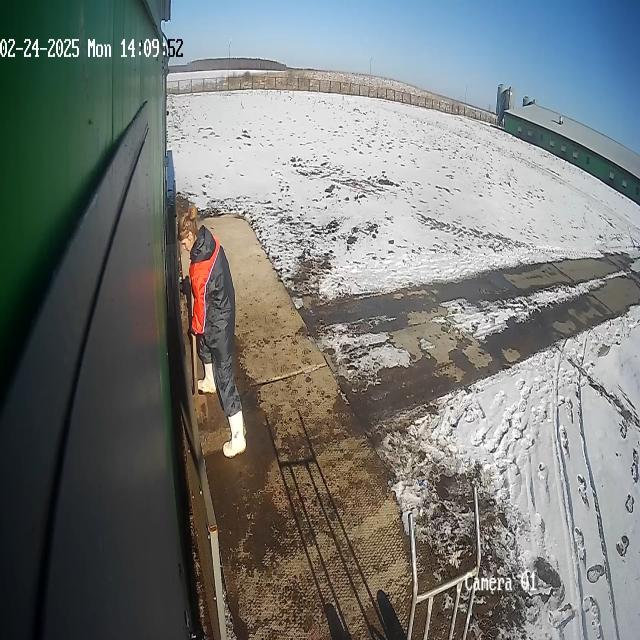Red uniform: (177, 204, 248, 461)
